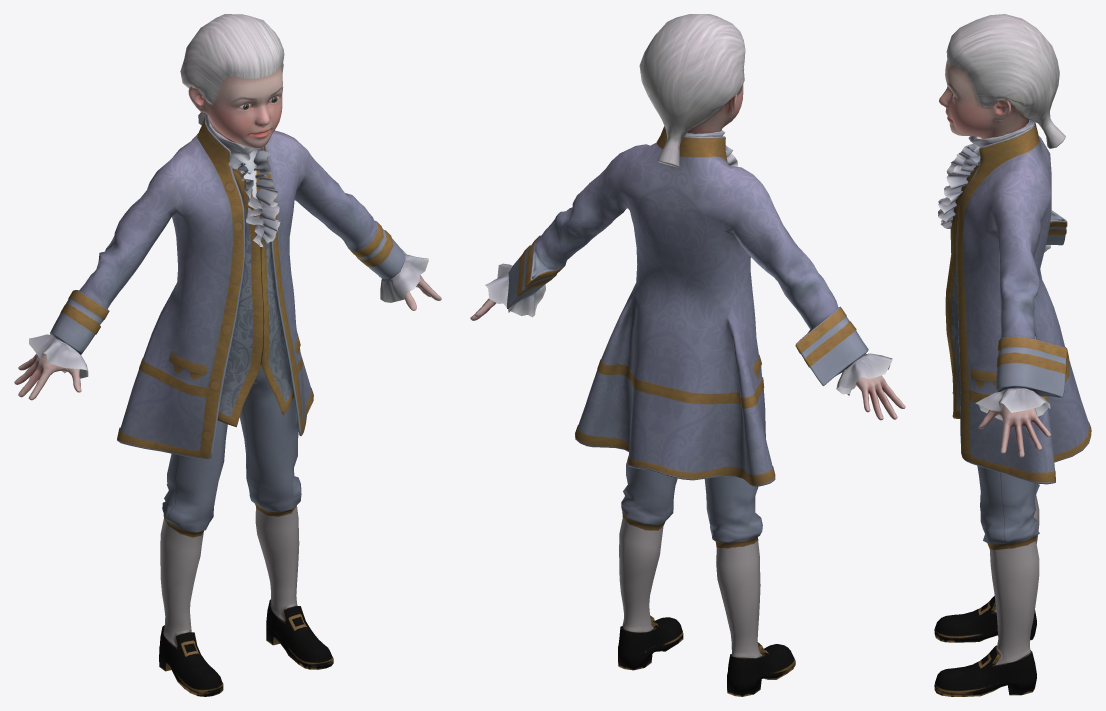
File: YoungMozart_BindPose.obj
3 views of the same model, side by side, from view 1: azimuth 30°, elevation 25°; view 2: azimuth 150°, elevation 25°; view 3: azimuth 270°, elevation 25° (orthographic).
Visible parts, largest first — view 1: YoungMozart_msh geo01 char01; view 2: YoungMozart_msh geo01 char01; view 3: YoungMozart_msh geo01 char01.
Part boxes in pixels (x1=…): YoungMozart_msh geo01 char01: x1=14, y1=14, x2=441, y2=696; YoungMozart_msh geo01 char01: x1=470, y1=14, x2=905, y2=696; YoungMozart_msh geo01 char01: x1=934, y1=14, x2=1091, y2=696.
Bounding box in the file's own units: 82.88 × 122 × 27.
1 material, 1 textured.
